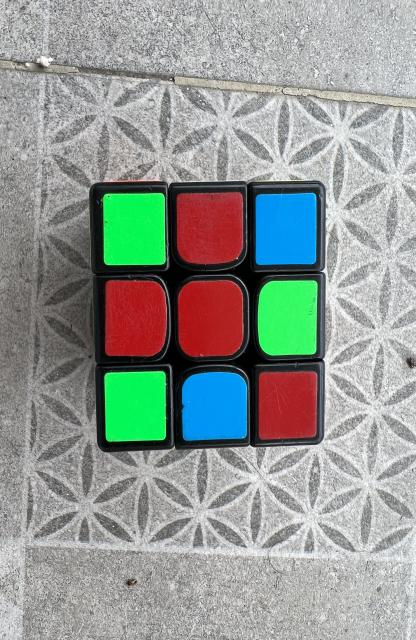Blue: (182, 372, 247, 441), (256, 192, 316, 265)
Green: (103, 192, 166, 265), (258, 280, 317, 355), (104, 371, 166, 441)
Red: (178, 280, 244, 358), (177, 192, 244, 264), (105, 280, 167, 356), (258, 371, 317, 440)
